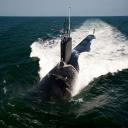submarine: (24, 6, 98, 108)
